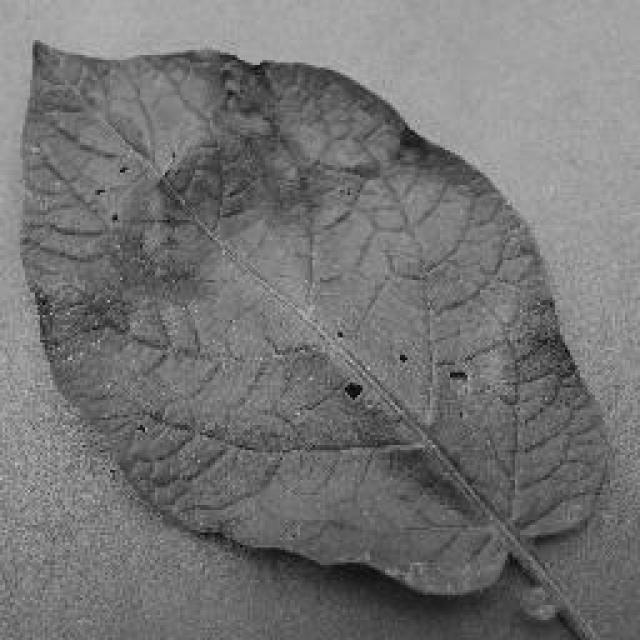Potato: (15, 35, 615, 630)
